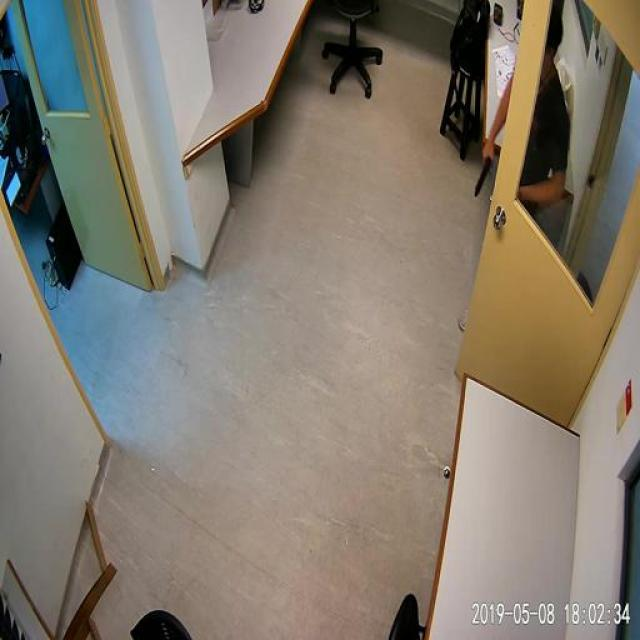Gun: (465, 141, 494, 201)
